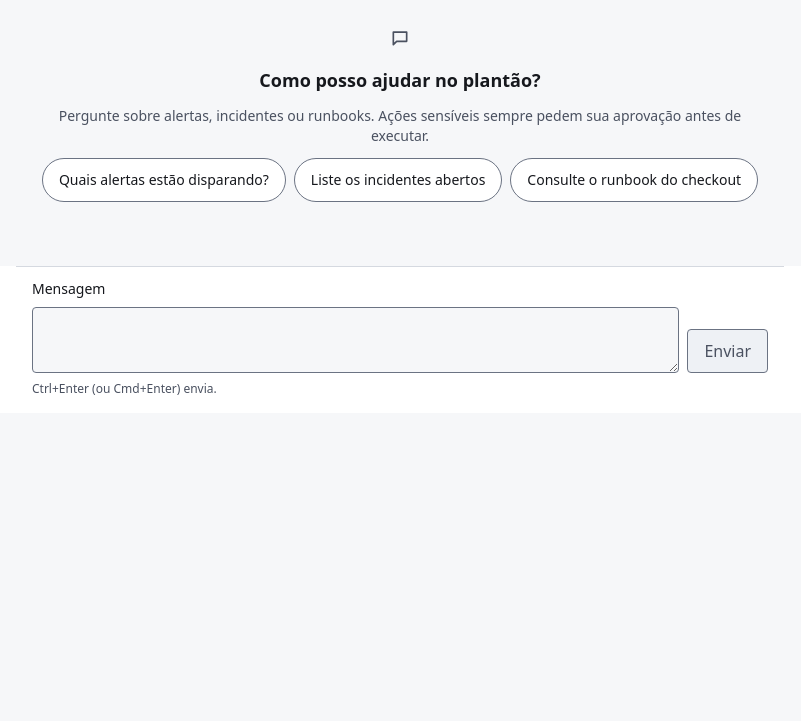
ApprovalCard › 409 expired shows Expirado
This screenshot has width=801, height=721.
In the text box labelled "Mensagem": (356, 340) [32,307,679,373], type "resolva o inc-1"
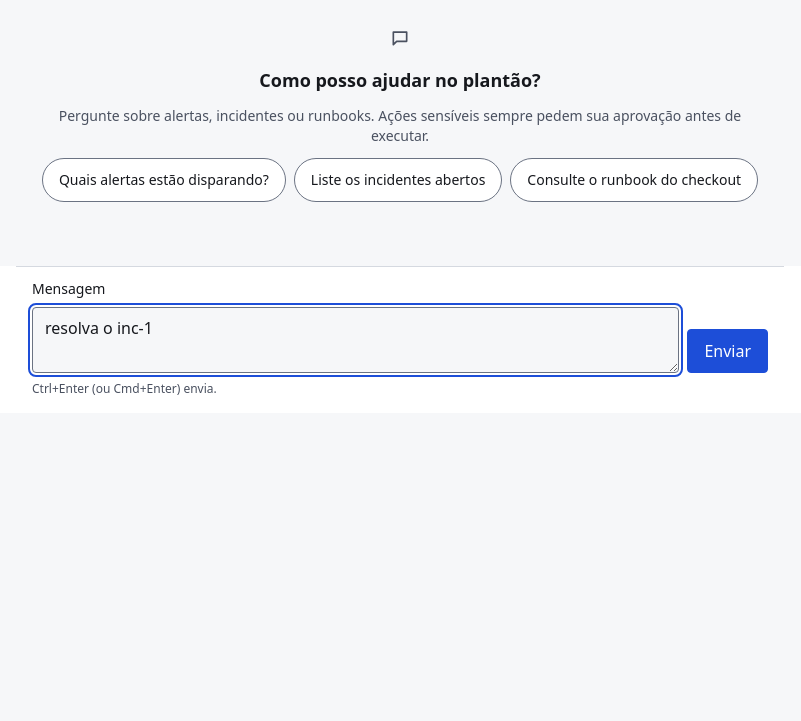
Click the button "Enviar": (728, 351) [687,329,768,373]
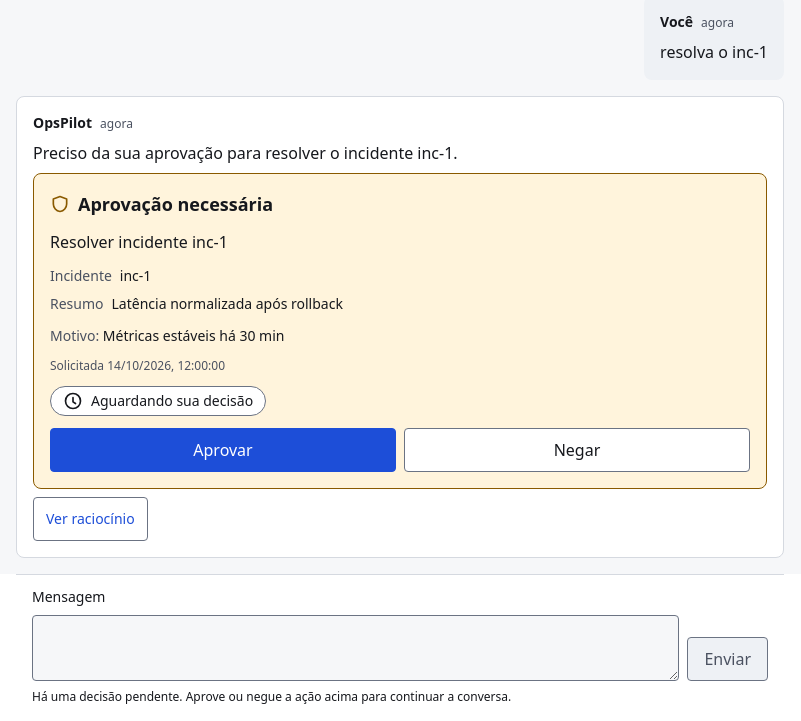
Click the button "Negar": (577, 450) [404,428,750,472]
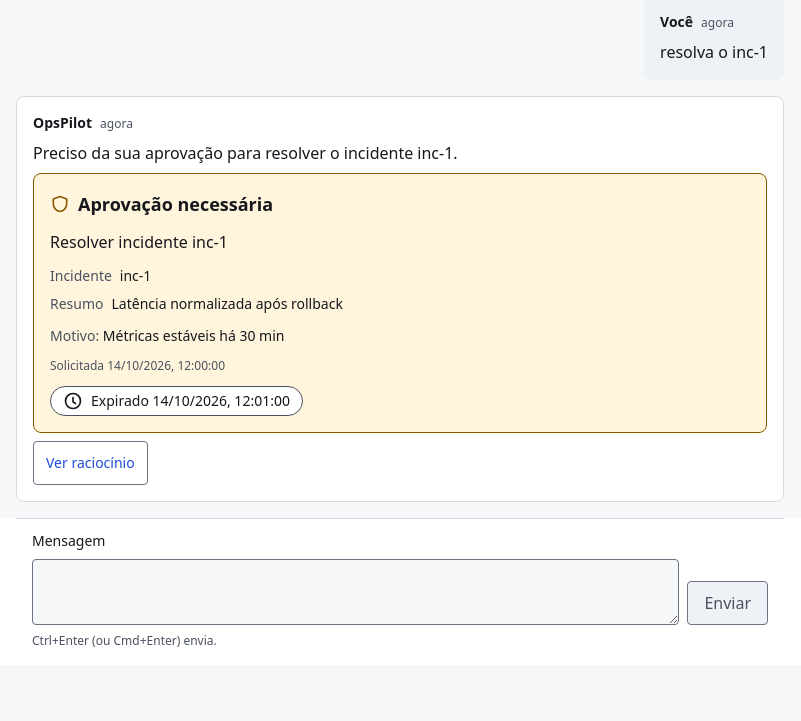
Now the text "Expirado" is shown, box [91,391,149,410]
Now the button "Negar" is gone
